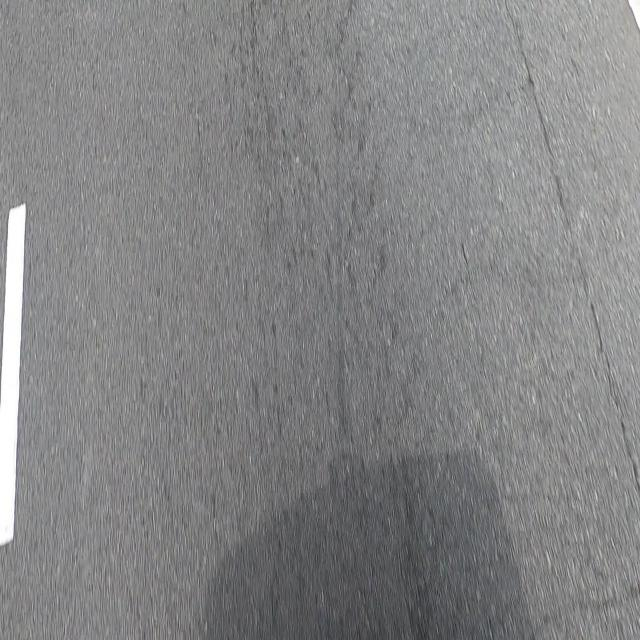Retak-Memanjang: (502, 0, 640, 507)
